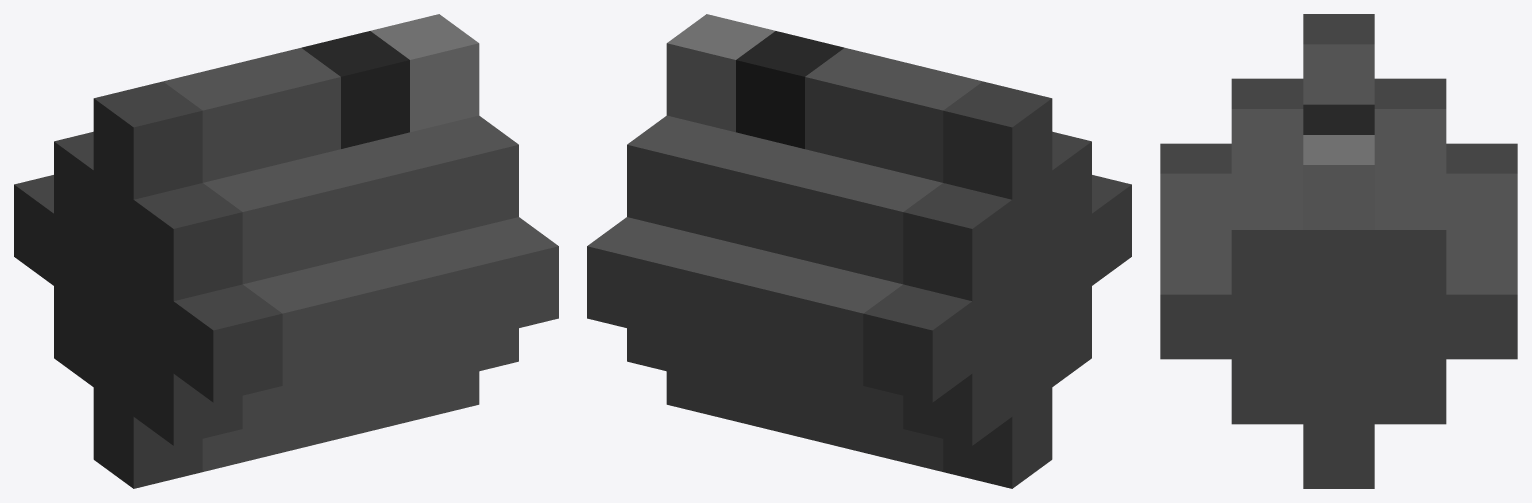
File: lower arm modeling.obj
The picture shows the model from 3 angles, left to right: view 1: azimuth 30°, elevation 25°; view 2: azimuth 150°, elevation 25°; view 3: azimuth 270°, elevation 25°; orthographic projection. The views are drawn at different scales.
Size of the model in its own units: 0.5 by 0.5 by 0.5.
1 material, 1 textured.
